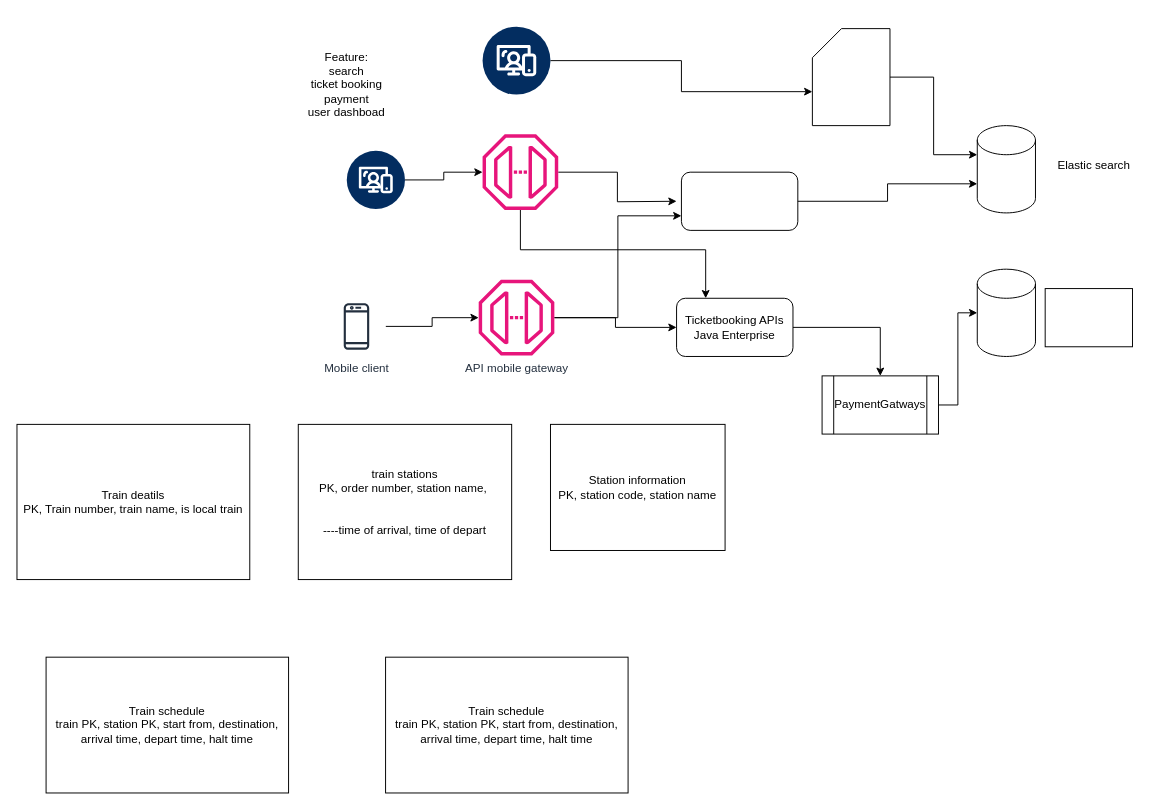
Image size: 1159x810. Some labels were removed from this diagram. Here are the shapes that lost their labels. From the top down, the centre of each, then its label:
At point 850,77: "Lamda functions".
At point 520,172: "APIweb gateway".
At point 739,200: "BE ticket serach Nodejs + graphql".
At point 1088,317: "DynoDB".
